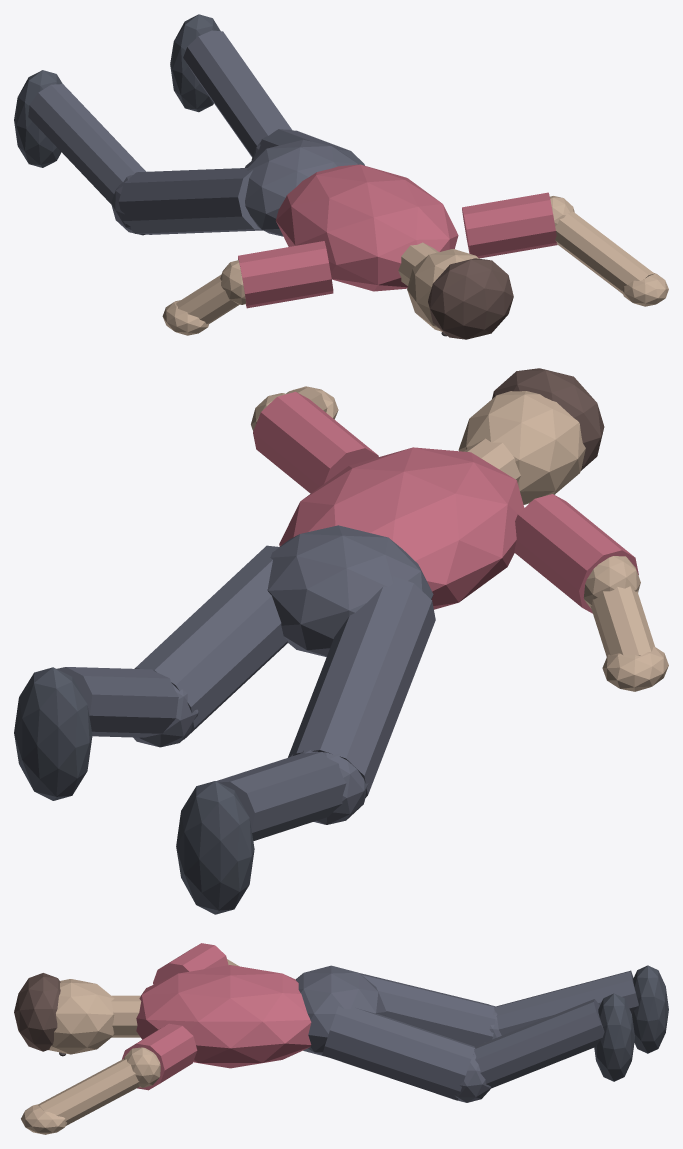
The picture shows the model from 3 angles, top to bottom: view 1: azimuth 30°, elevation 25°; view 2: azimuth 150°, elevation 25°; view 3: azimuth 270°, elevation 25°; orthographic projection. The views are drawn at different scales.
Visible parts, largest first — view 1: world; view 2: world; view 3: world.
Part boxes in pixels (x1=…): world: x1=14, y1=14, x2=668, y2=339; world: x1=14, y1=368, x2=668, y2=914; world: x1=14, y1=943, x2=668, y2=1134.
Size of the model in its own units: 1.25 by 0.4125 by 2.01.
